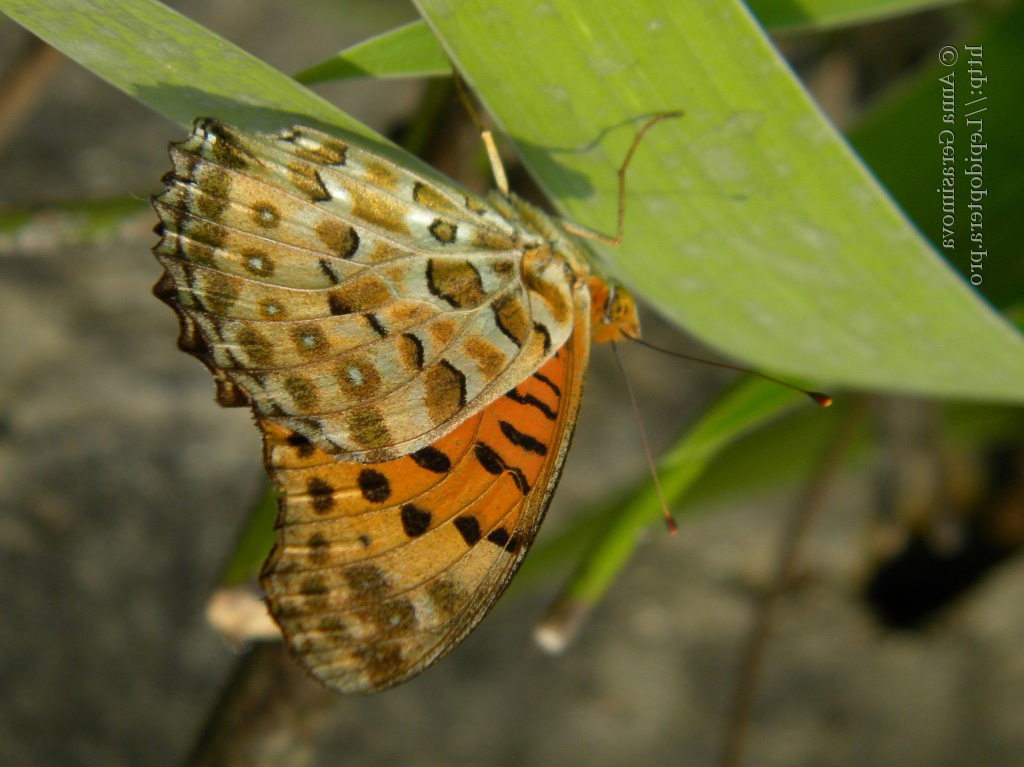Argyreus hyperbius: (141, 104, 839, 702)
butterfly: (139, 102, 837, 700)
